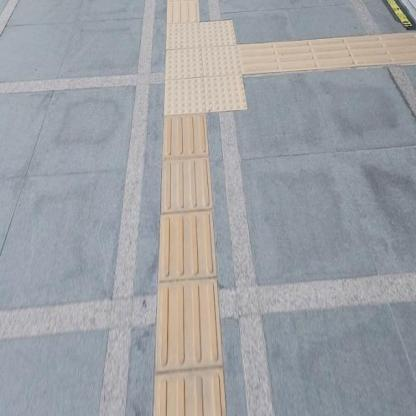podotacti: (150, 120, 230, 416), (154, 6, 268, 140), (243, 29, 415, 76)
